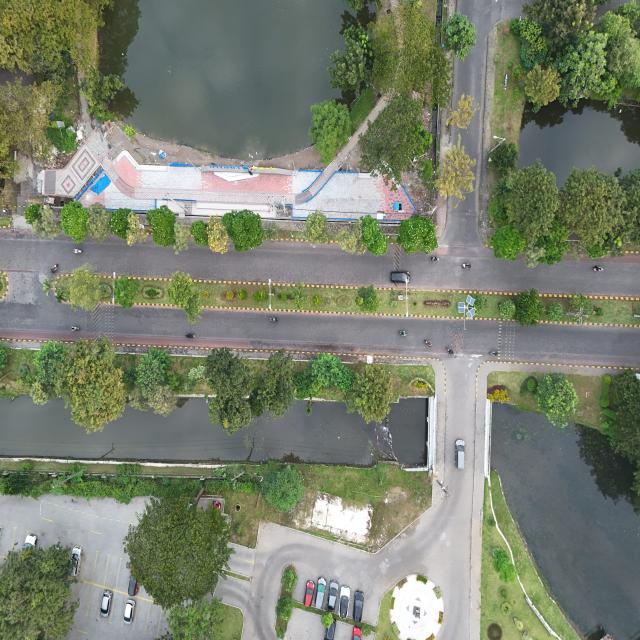Tree: (352, 362, 394, 423), (538, 373, 579, 427), (222, 205, 263, 252), (265, 466, 302, 512), (524, 62, 562, 106), (69, 264, 103, 313), (442, 13, 477, 60), (398, 214, 438, 253), (491, 223, 526, 260), (360, 213, 388, 258), (147, 204, 176, 247), (516, 286, 545, 328), (60, 201, 88, 243), (86, 201, 110, 243), (114, 274, 139, 310), (305, 209, 328, 242), (358, 283, 380, 314), (110, 206, 129, 238), (338, 224, 358, 254), (290, 281, 308, 311), (189, 219, 209, 246), (275, 593, 293, 622), (280, 566, 298, 593), (545, 301, 564, 323), (498, 298, 516, 320), (23, 203, 41, 225), (253, 288, 268, 304), (236, 288, 249, 302), (321, 613, 333, 627), (225, 288, 235, 303)
